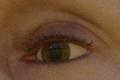eye: (40, 41, 69, 62)
